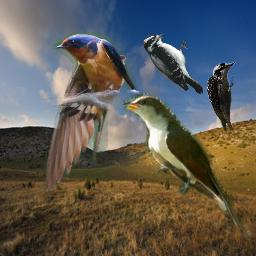Cuckoo: (123, 92, 251, 240)
Swallow: (42, 32, 143, 192)
Woodpecker: (143, 33, 203, 94), (204, 58, 239, 135)
